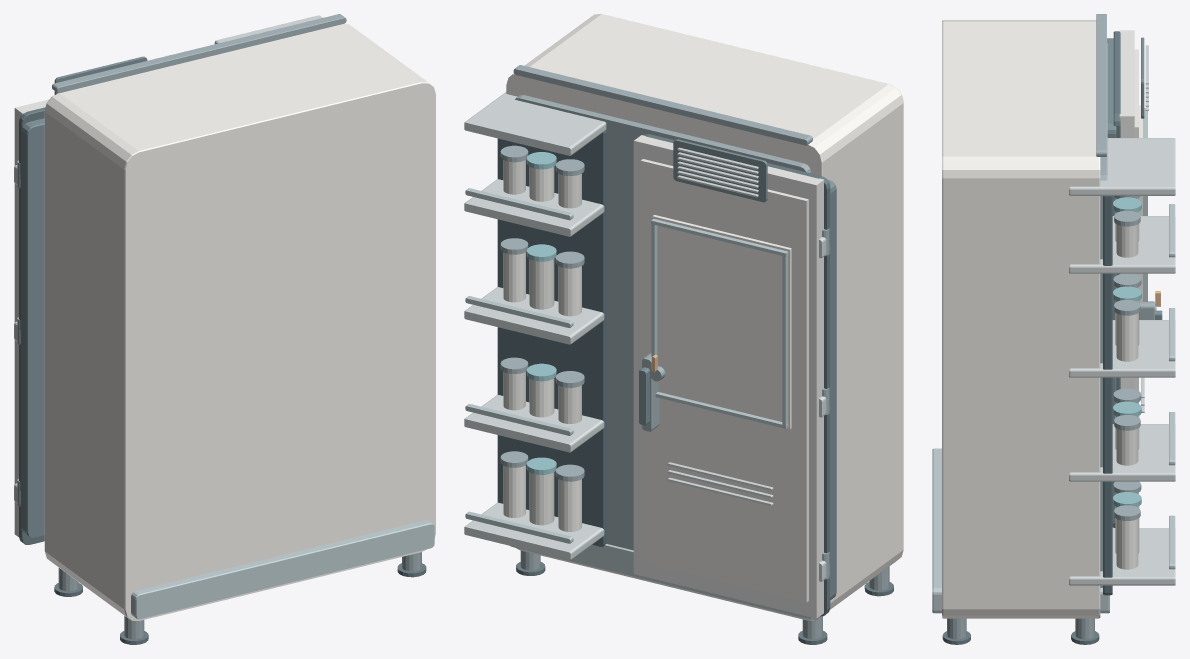
File: pantry_cabinet.glb
3 renders of one model, left to right at view 1: azimuth 30°, elevation 25°; view 2: azimuth 150°, elevation 25°; view 3: azimuth 270°, elevation 25°, orthographic. The views are drawn at different scales.
Visible parts, largest first — view 1: Fixed__ivory, Fixed__graphite, Fixed__aluminium, Fixed__steel, pantry_door__shell, Fixed__rubber, Fixed__silver; view 2: Fixed__ivory, pantry_door__ceramic, Fixed__steel, pantry_door__ivory, Fixed__silver, Fixed__recess, pantry_door__shell, Fixed__ceramic, Fixed__neutral, Fixed__aluminium, Fixed__graphite, pantry_door__aluminium (+5 smaller); view 3: Fixed__ivory, Fixed__silver, Fixed__steel, Fixed__recess, Fixed__aluminium, Fixed__ceramic, Fixed__neutral, pantry_door__shell, Fixed__teal, Fixed__graphite, Fixed__rubber, pantry_door__ceramic (+1 smaller).
Boxes of the visible parts, <box> form: Fixed__ivory: <box>44,24,435,620</box>; Fixed__graphite: <box>21,56,147,537</box>; Fixed__aluminium: <box>131,520,434,619</box>; Fixed__steel: <box>17,14,421,639</box>; pantry_door__shell: <box>14,99,49,536</box>; Fixed__rubber: <box>19,107,426,644</box>; Fixed__silver: <box>14,15,322,504</box>; Fixed__ivory: <box>506,14,903,620</box>; pantry_door__ceramic: <box>640,159,808,602</box>; Fixed__steel: <box>500,65,889,639</box>; pantry_door__ivory: <box>652,215,791,429</box>; Fixed__silver: <box>464,92,829,581</box>; Fixed__recess: <box>497,130,606,546</box>; pantry_door__shell: <box>633,135,824,618</box>; Fixed__ceramic: <box>503,167,581,531</box>; Fixed__neutral: <box>503,160,581,525</box>; Fixed__aluminium: <box>465,188,811,618</box>; Fixed__graphite: <box>673,139,836,599</box>; pantry_door__aluminium: <box>651,219,788,428</box>; Fixed__ivory: <box>942,20,1100,618</box>; Fixed__silver: <box>1069,45,1175,585</box>; Fixed__steel: <box>947,14,1141,639</box>; Fixed__recess: <box>1103,196,1112,595</box>; Fixed__aluminium: <box>932,204,1175,613</box>; Fixed__ceramic: <box>1115,211,1139,569</box>; Fixed__neutral: <box>1115,198,1139,553</box>; pantry_door__shell: <box>1119,30,1134,388</box>; Fixed__teal: <box>1113,197,1141,506</box>; Fixed__graphite: <box>1107,37,1144,527</box>; Fixed__rubber: <box>942,31,1120,644</box>; pantry_door__ceramic: <box>1134,49,1138,493</box>.
Size of the model in its own units: 1.37 by 1.98 by 0.891.
